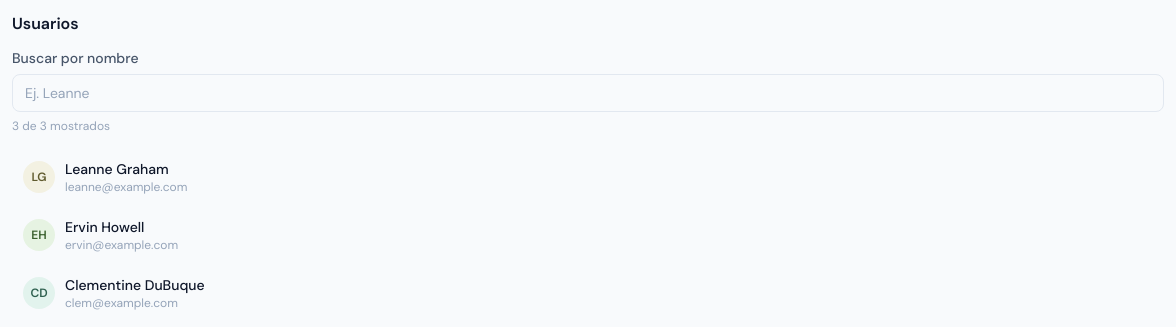
Test: UserList › filtra usuarios por nombre al buscar
Expected: the text "Leanne Graham" is shown, top-left (65, 160), bottom-right (169, 178)
Expected: the text "Ervin Howell" is shown, top-left (65, 218), bottom-right (144, 236)
Type "ervin" into the search field.
click(588, 93); type("ervin")  # box top-left (12, 74), bottom-right (1164, 112)
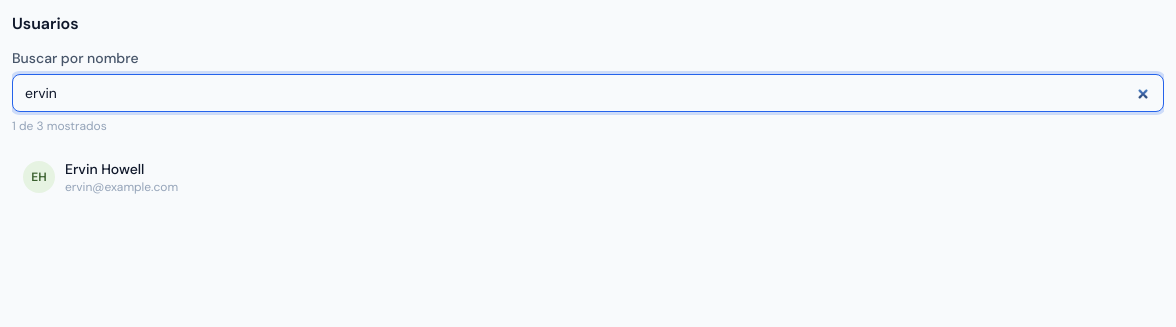
Expected: the text "Ervin Howell" is shown, top-left (65, 160), bottom-right (144, 178)
Result: the button "Leanne Graham" is gone
